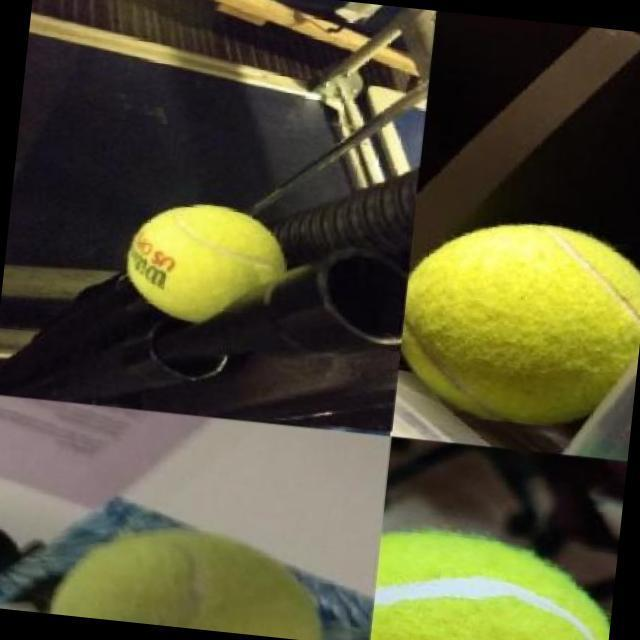-: (381, 220, 640, 425), (123, 172, 313, 341)
